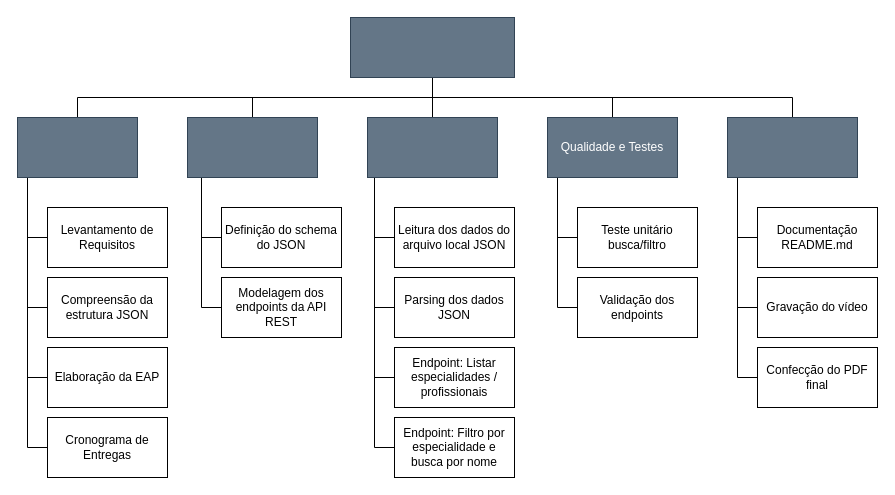
This 895x495 diagram has some shape labels left out. Each missing label, with the centre of its shape:
API de Profissionais de Saúde: the point at 432,47
Arquitetura e Modelagem: the point at 252,147
Desenvolvimento: the point at 432,147
Documentação: the point at 792,147
Gestão e Planejamento: the point at 77,147
